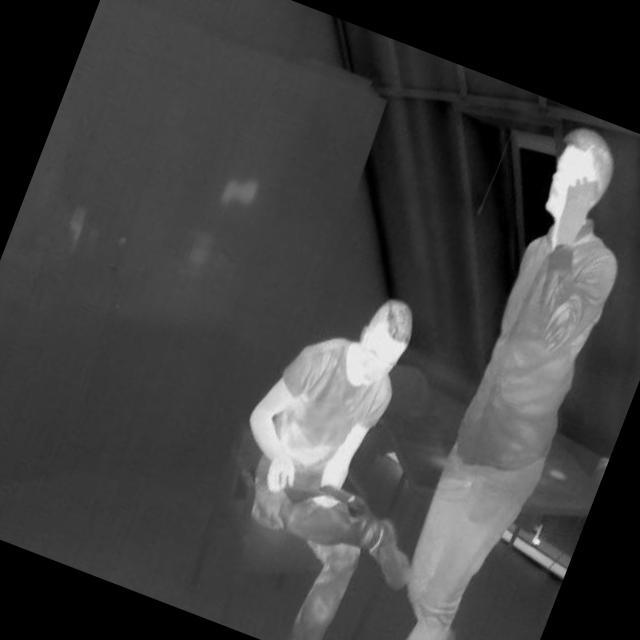person: (329, 115, 640, 640), (173, 255, 512, 640)
